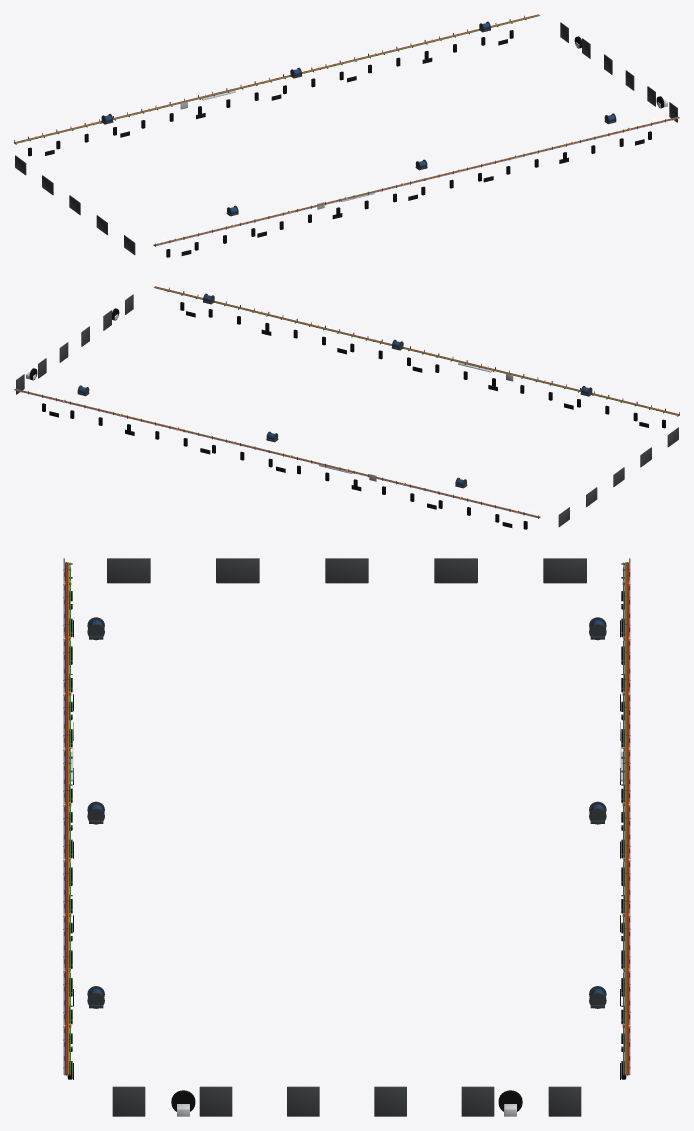
The model's file is facade_hull.glb.
3 views of the same model, one above another, from view 1: azimuth 30°, elevation 25°; view 2: azimuth 150°, elevation 25°; view 3: azimuth 270°, elevation 25° (orthographic). The views are drawn at different scales.
Visible parts, largest first — view 1: facade_hull; view 2: facade_hull; view 3: facade_hull.
Part boxes in pixels (left/top/right/bottom): facade_hull: left=14, top=14, right=679, bottom=257; facade_hull: left=14, top=286, right=679, bottom=529; facade_hull: left=63, top=558, right=630, bottom=1116.
Bounding box in the file's own units: 233 × 12.7 × 104.
